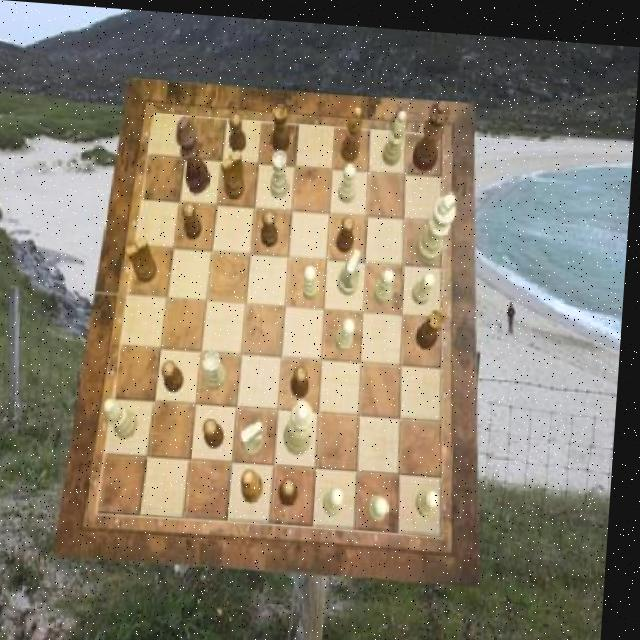bishop: (342, 99, 365, 158), (247, 465, 271, 500)
black-bishop: (175, 112, 216, 192)
black-king: (127, 233, 162, 280), (223, 146, 250, 196)
black-knight: (228, 111, 249, 152), (185, 198, 207, 236), (165, 357, 189, 391), (208, 415, 230, 447), (264, 206, 283, 243), (339, 210, 358, 247), (296, 360, 315, 395), (284, 472, 305, 502)
black-pawn: (412, 92, 452, 167)
black-queen: (419, 302, 448, 344), (273, 99, 296, 149)
black-rook: (108, 397, 146, 437), (384, 103, 409, 160)
white-bishop: (419, 184, 460, 260)
white-king: (341, 242, 366, 291), (245, 414, 270, 453)
white-knight: (415, 264, 440, 299), (340, 157, 360, 198), (377, 263, 398, 300), (422, 483, 447, 512), (340, 312, 360, 347), (306, 260, 324, 296), (330, 482, 352, 511), (373, 488, 395, 515)
white-pawn: (288, 395, 320, 451)
white-queen: (272, 146, 294, 196), (207, 348, 233, 387)
